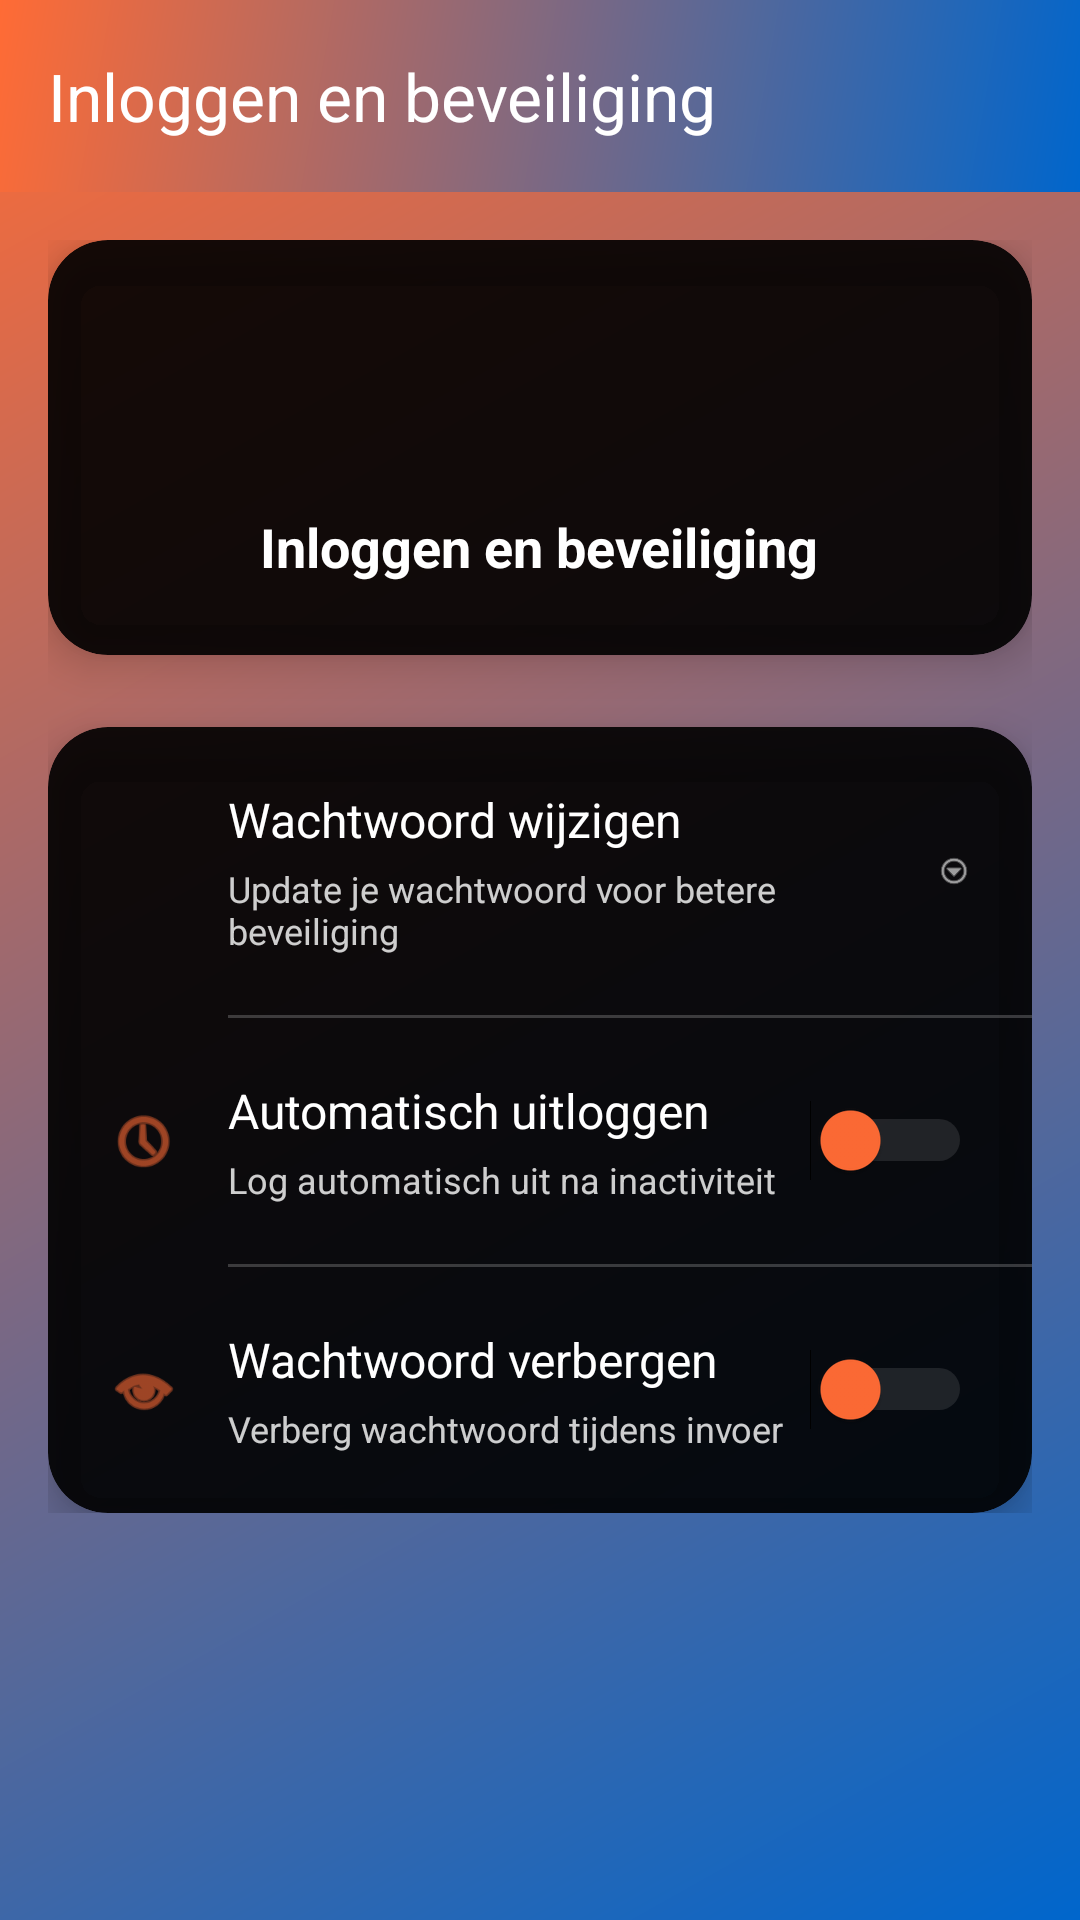

Icons on this 1080 x 1920 Android screen, each with the point to tap as (x,y):
more: (954,871)
recent history: (143,1141)
view: (144,1391)
